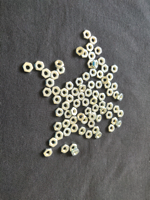nut: (22, 62, 33, 73), (34, 61, 45, 71), (41, 68, 51, 79), (42, 87, 52, 98), (55, 107, 64, 118), (55, 59, 64, 69), (48, 138, 58, 147), (53, 122, 63, 131), (61, 101, 70, 111), (60, 144, 70, 153), (83, 30, 92, 39), (76, 47, 85, 56), (94, 46, 103, 55), (46, 79, 55, 88), (50, 71, 59, 80), (65, 82, 74, 91), (52, 87, 61, 96), (71, 88, 80, 97), (70, 107, 79, 116), (62, 120, 71, 129), (55, 132, 64, 141), (52, 97, 62, 105), (43, 149, 53, 157), (88, 52, 97, 60), (75, 78, 83, 87), (60, 89, 68, 98), (88, 81, 96, 90), (70, 125, 79, 133), (69, 117, 78, 125), (78, 127, 87, 135), (77, 113, 85, 122), (82, 49, 89, 59), (83, 72, 90, 82), (86, 43, 94, 51), (57, 67, 65, 75), (89, 69, 97, 77), (66, 95, 74, 103), (85, 89, 93, 97), (95, 81, 103, 89), (78, 93, 86, 101), (73, 100, 81, 108), (82, 99, 90, 107), (63, 129, 71, 137), (108, 125, 116, 133), (69, 144, 77, 152), (89, 113, 97, 121), (85, 131, 93, 139), (111, 83, 119, 91), (102, 77, 110, 85), (106, 89, 114, 97), (92, 90, 100, 98), (92, 127, 100, 135), (90, 36, 97, 45), (99, 57, 106, 66), (87, 60, 94, 69), (82, 115, 89, 124), (98, 101, 107, 108), (112, 65, 119, 73), (102, 65, 109, 73), (97, 71, 104, 79), (79, 86, 87, 93), (85, 107, 92, 115), (98, 94, 106, 101), (107, 74, 114, 82), (111, 118, 119, 125), (92, 105, 99, 113), (106, 112, 113, 120), (95, 132, 103, 139), (71, 150, 80, 156), (113, 106, 120, 113), (107, 103, 114, 110), (104, 82, 111, 89), (90, 98, 97, 105), (100, 108, 107, 115), (118, 110, 125, 117), (65, 111, 71, 119), (88, 122, 96, 128), (94, 60, 99, 69), (117, 121, 123, 128), (118, 94, 124, 101), (96, 116, 102, 123), (114, 91, 119, 99)
